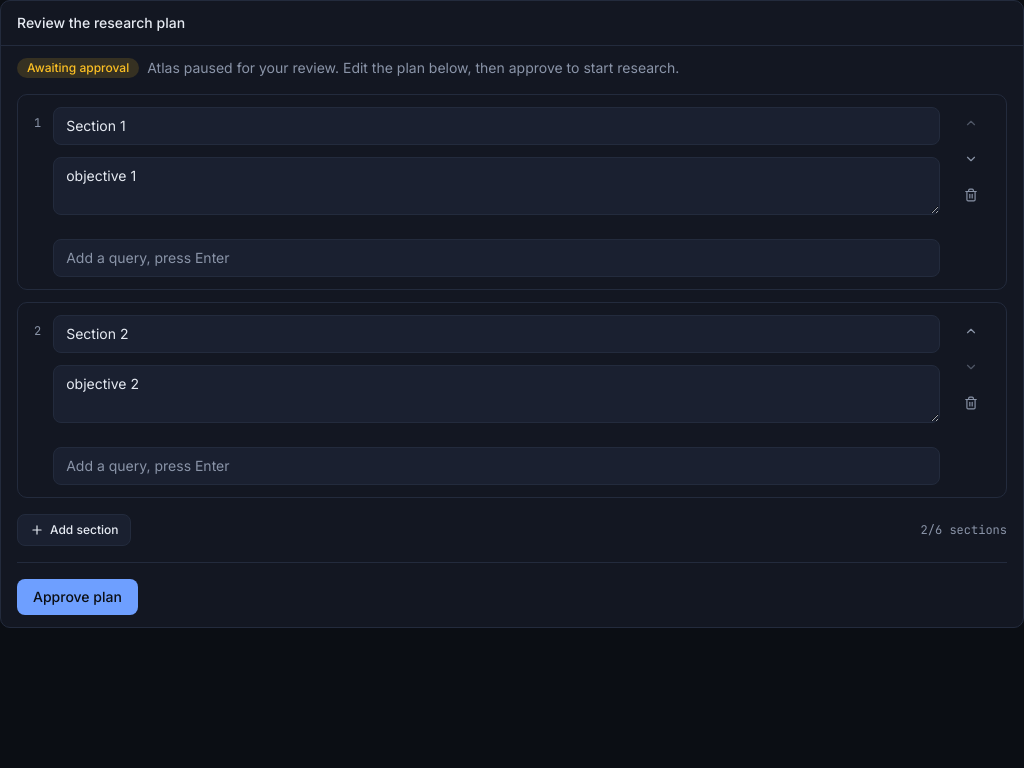
Test: PlanApprovalPanel › disables submit when a title is blank
Clear the field named "Section 1 title" at (497, 126), box [53,107,940,145]
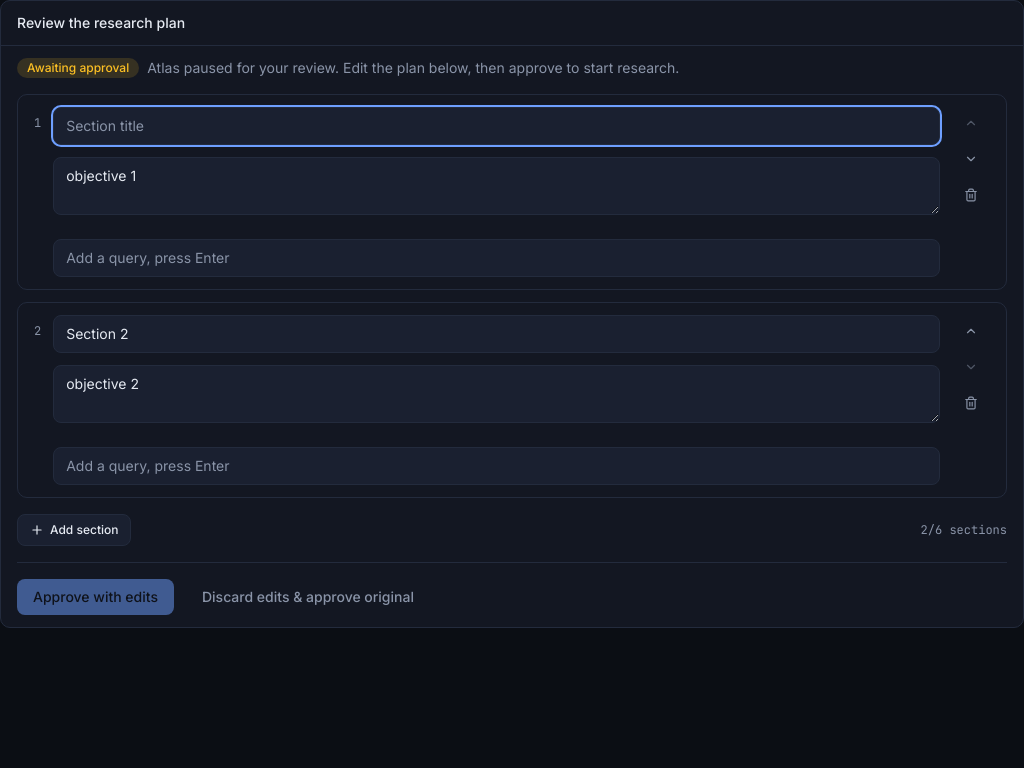
Check: the button "Approve with edits" is disabled, box [17,579,174,615]
